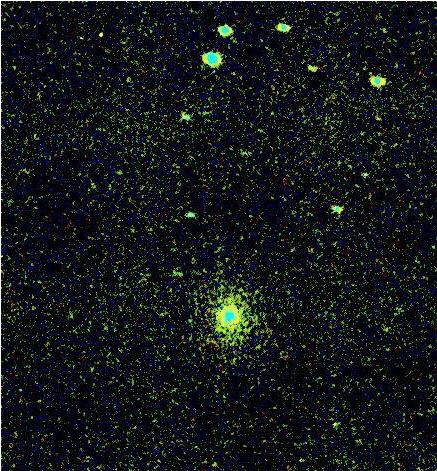star: (319, 409, 349, 439)
